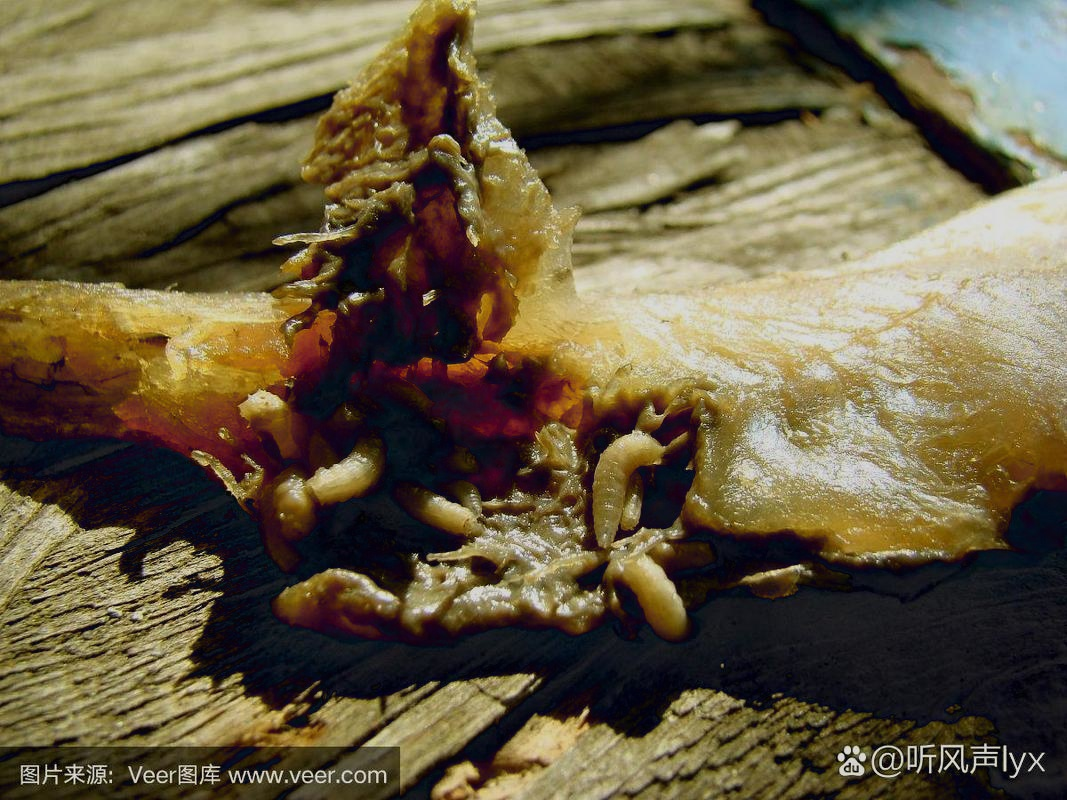Borer: (267, 370, 515, 549), (589, 405, 712, 672), (358, 129, 482, 310)
